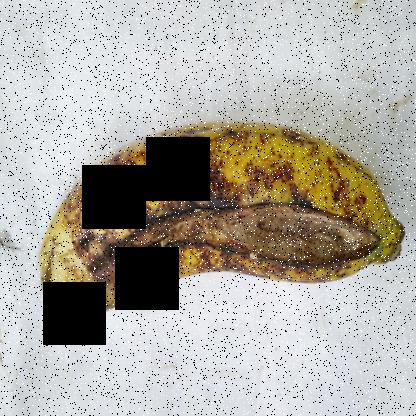rotten: (70, 169, 388, 312)
